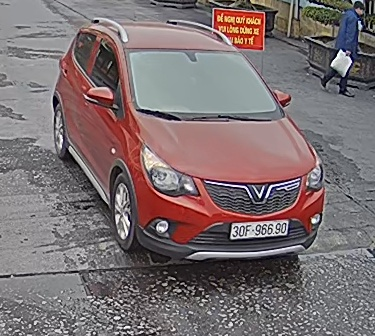vehicle plate: (225, 216, 293, 242)
